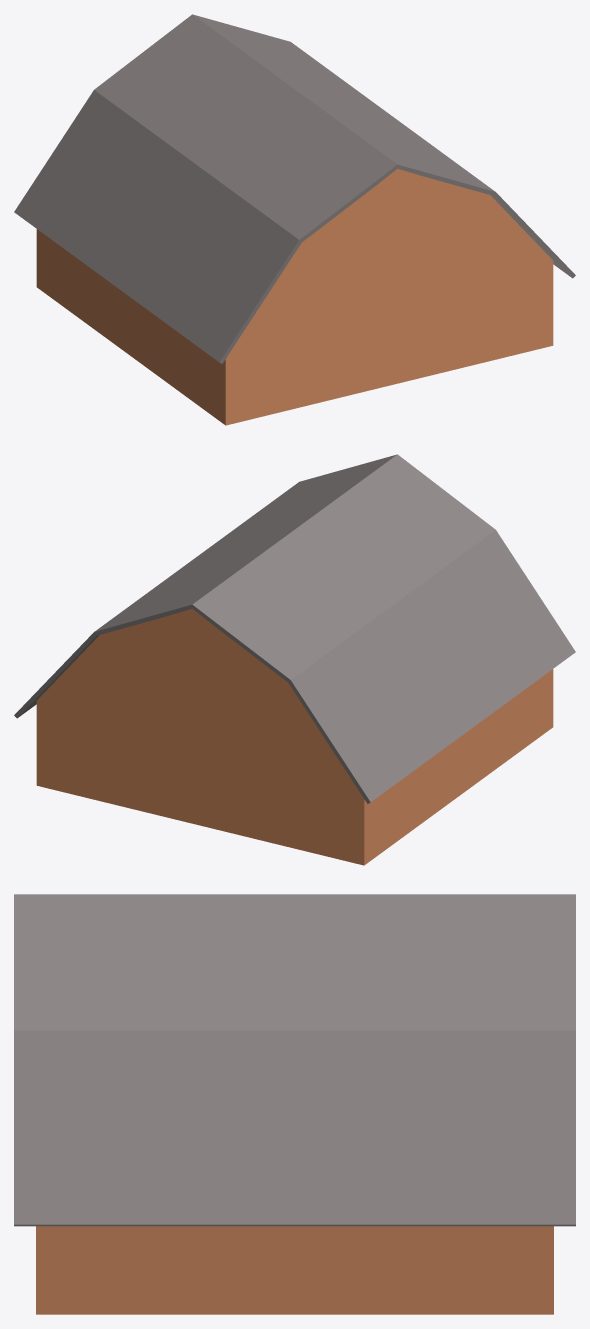
Rendered from cenario-fundo-01.fbx.
3 views of the same model, one above another, from view 1: azimuth 30°, elevation 25°; view 2: azimuth 150°, elevation 25°; view 3: azimuth 270°, elevation 25° (orthographic). The views are drawn at different scales.
Parts seen in each view (by area): view 1: Cube.001, Cube; view 2: Cube.001, Cube; view 3: Cube.001, Cube.
Part boxes in pixels (x1,y1,x2,y2): Cube.001: (14,14,575,363); Cube: (36,168,553,425); Cube.001: (14,454,575,803); Cube: (36,608,553,865); Cube.001: (14,894,575,1226); Cube: (36,1226,553,1314).
Size of the model in its own units: 1088 by 662 by 1085.
